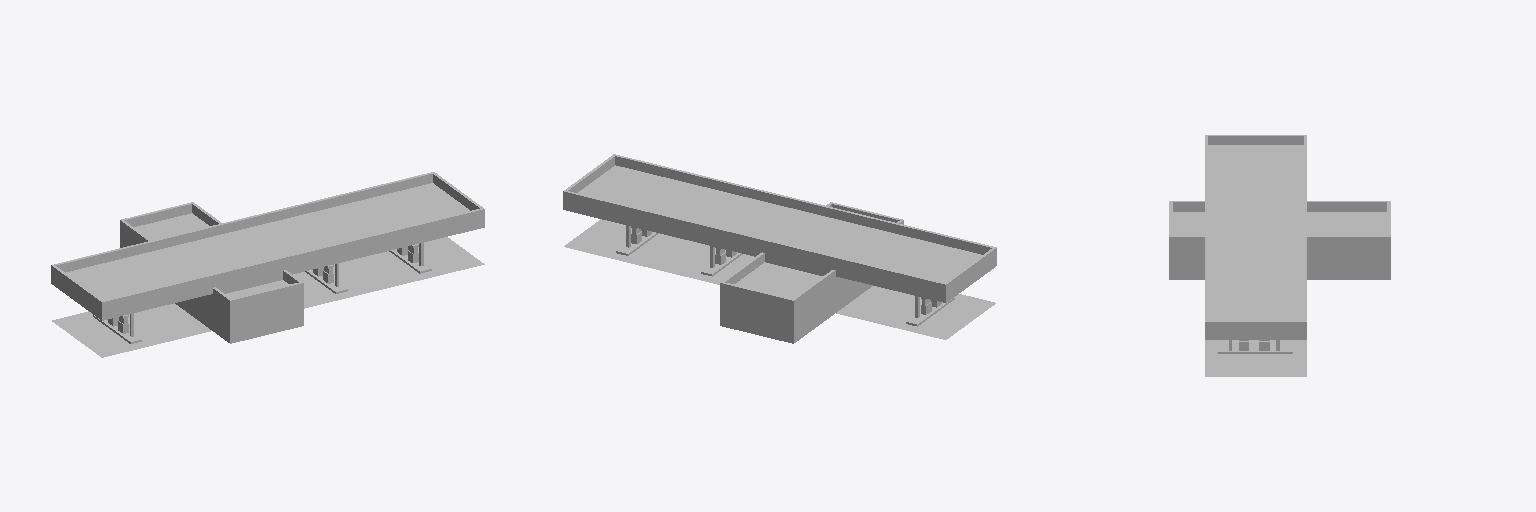
The model's file is Com_Gas_Station.obj.
3 renders of one model, left to right at view 1: azimuth 30°, elevation 25°; view 2: azimuth 150°, elevation 25°; view 3: azimuth 270°, elevation 25°, orthographic.
Parts seen in each view (by area): view 1: Mesh23 Model, Mesh17 Component_29_2 Model, Mesh18 Component_29_3 Model; view 2: Mesh23 Model; view 3: Mesh23 Model, Mesh16 Component_29_1 Model.
Part boxes in pixels (x1,y1,x2,y2): Mesh23 Model: (51, 172, 484, 357); Mesh17 Component_29_2 Model: (230, 295, 303, 332); Mesh18 Component_29_3 Model: (187, 296, 229, 332); Mesh23 Model: (563, 154, 996, 343); Mesh23 Model: (1169, 135, 1390, 376); Mesh16 Component_29_1 Model: (1169, 249, 1204, 268).
Size of the model in its own units: 1560 by 216 by 780.